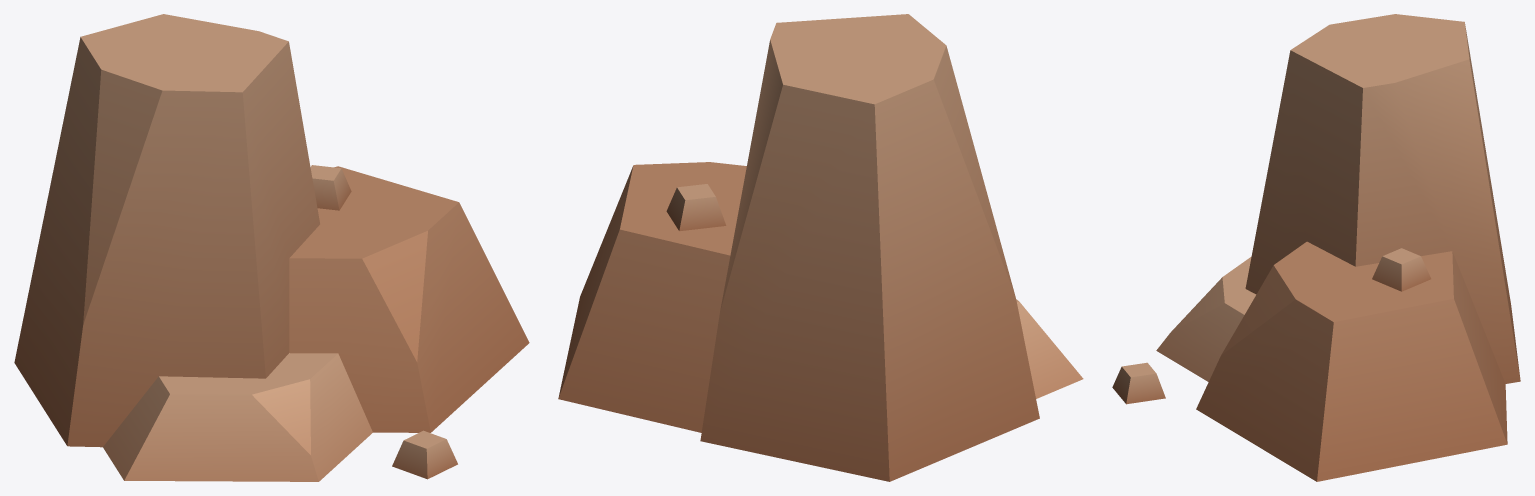
Rendered from rock-sand-a.glb.
3 views of the same model, side by side, from view 1: azimuth 30°, elevation 25°; view 2: azimuth 150°, elevation 25°; view 3: azimuth 270°, elevation 25° (orthographic). The views are drawn at different scales.
Parts seen in each view (by area): view 1: rock-sand-a; view 2: rock-sand-a; view 3: rock-sand-a.
Boxes of the visible parts, left/top/right/bottom form: rock-sand-a: left=14, top=14, right=529, bottom=481; rock-sand-a: left=558, top=14, right=1083, bottom=481; rock-sand-a: left=1112, top=14, right=1520, bottom=481.
Size of the model in its own units: 0.5552 by 0.3927 by 0.4845.
